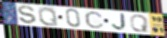0: (65, 8, 82, 29)
C: (84, 11, 105, 29)
J: (111, 13, 128, 32)
Q: (37, 6, 60, 27), (129, 15, 150, 33)
S: (17, 5, 38, 25)
